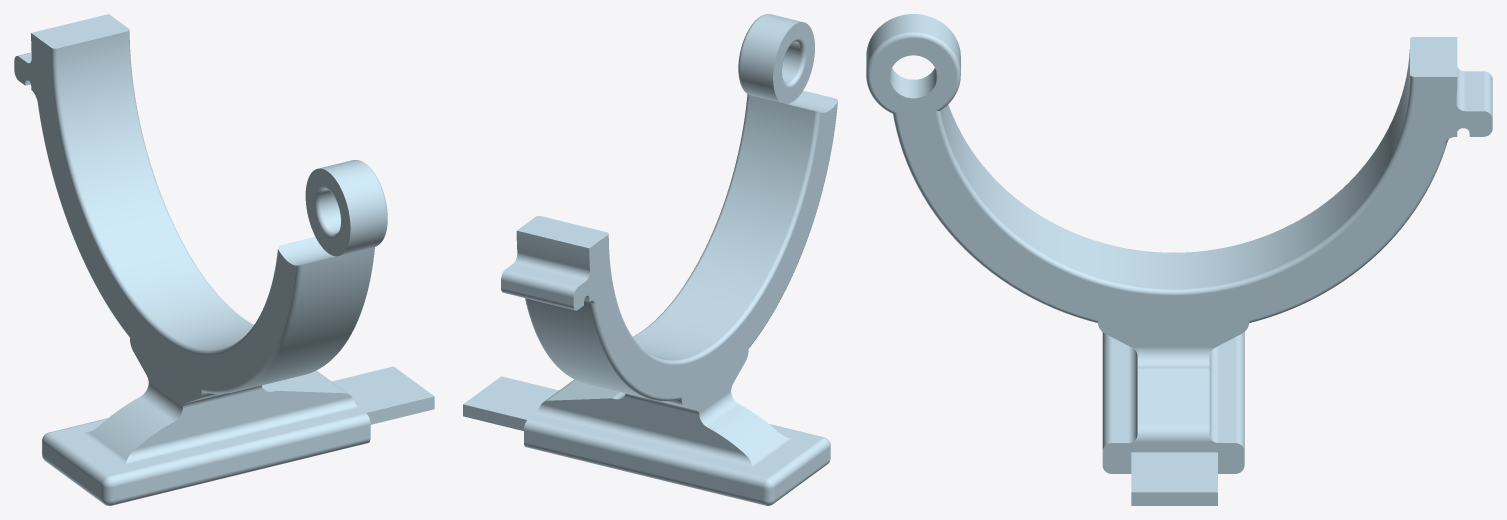
Rendered from clamp-base-v2.gltf.
3 renders of one model, left to right at view 1: azimuth 30°, elevation 25°; view 2: azimuth 150°, elevation 25°; view 3: azimuth 270°, elevation 25°, orthographic. The views are drawn at different scales.
Visible parts, largest first — view 1: clamp base; view 2: clamp base; view 3: clamp base.
Part boxes in pixels (box(x1,y1,x2,y2)): clamp base: box(14, 14, 434, 505); clamp base: box(463, 14, 837, 505); clamp base: box(866, 14, 1492, 505).
Size of the model in its own units: 0.0559 by 0.058 by 0.0841.
